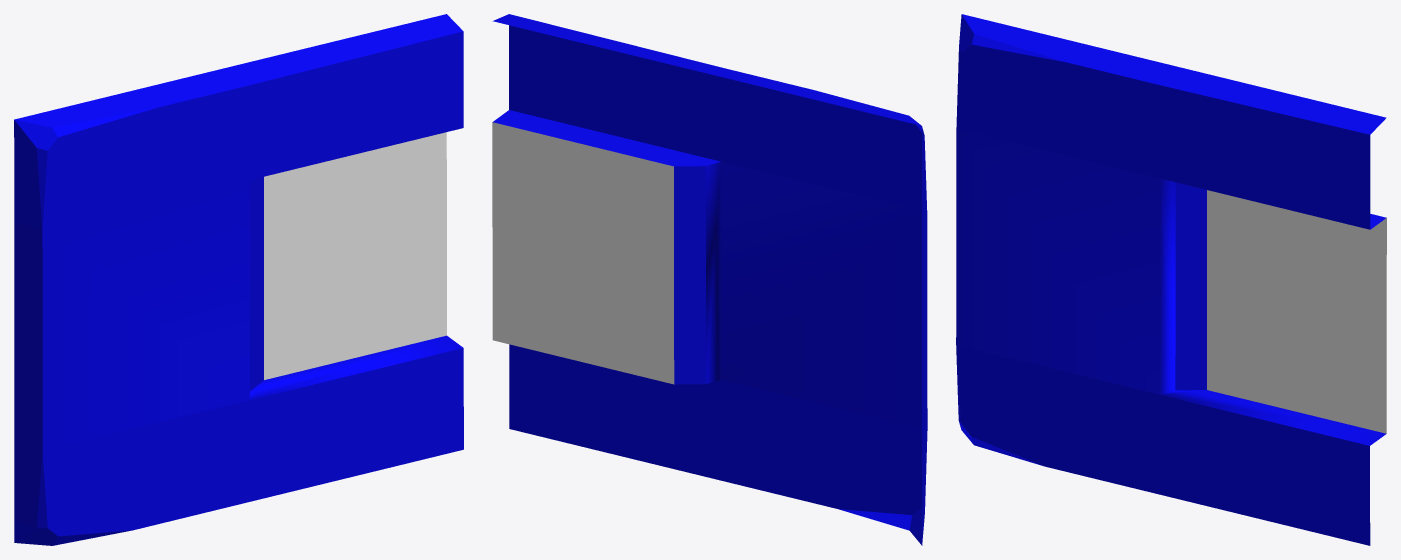
Rendered from Wall Left.fbx.
3 views of the same model, side by side, from view 1: azimuth 30°, elevation 25°; view 2: azimuth 150°, elevation 25°; view 3: azimuth 330°, elevation 25° (orthographic).
Parts seen in each view (by area): view 1: Window_Side1_Window_Side1_polySurface3; view 2: Window_Side1_Window_Side1_polySurface3; view 3: Window_Side1_Window_Side1_polySurface3.
Boxes of the visible parts, x1,y1,x2,y2 form: Window_Side1_Window_Side1_polySurface3: [14, 14, 463, 545]; Window_Side1_Window_Side1_polySurface3: [492, 14, 927, 545]; Window_Side1_Window_Side1_polySurface3: [956, 14, 1386, 545].
Size of the model in its own units: 405 by 378 by 27.64.
